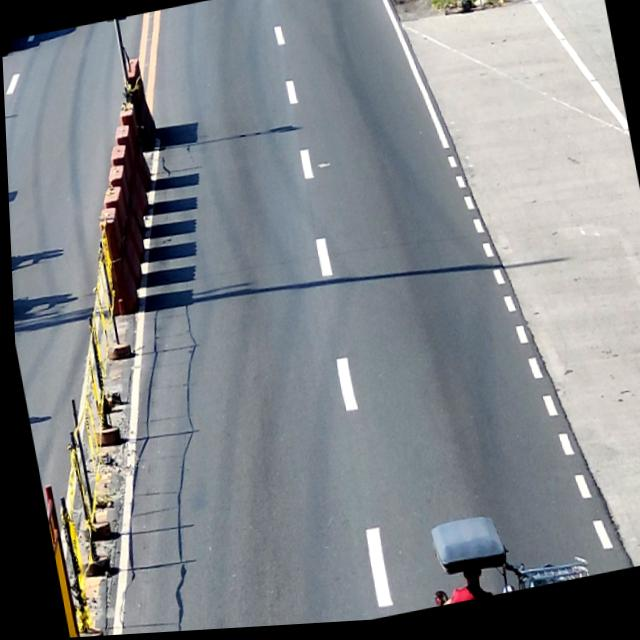Tricycle: (418, 504, 586, 612)
